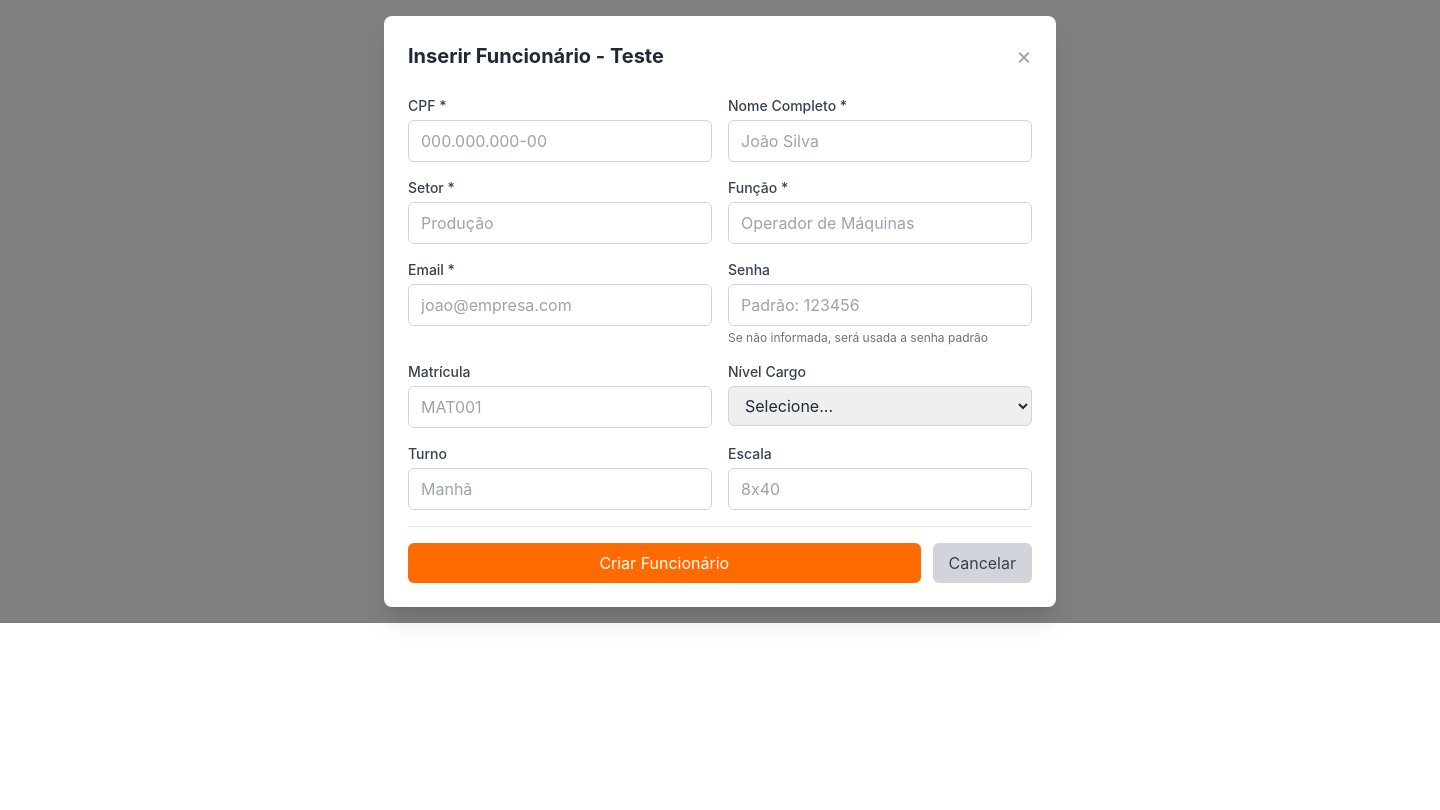
Test case: Inserção Individual de Funcionários › ModalInserirFuncionario - Interface › deve formatar CPF automaticamente com máscara
Type "12345678901" into the field with placeholder "000.000.000-00" at (560, 141), box x1=408 y1=120 x2=712 y2=162
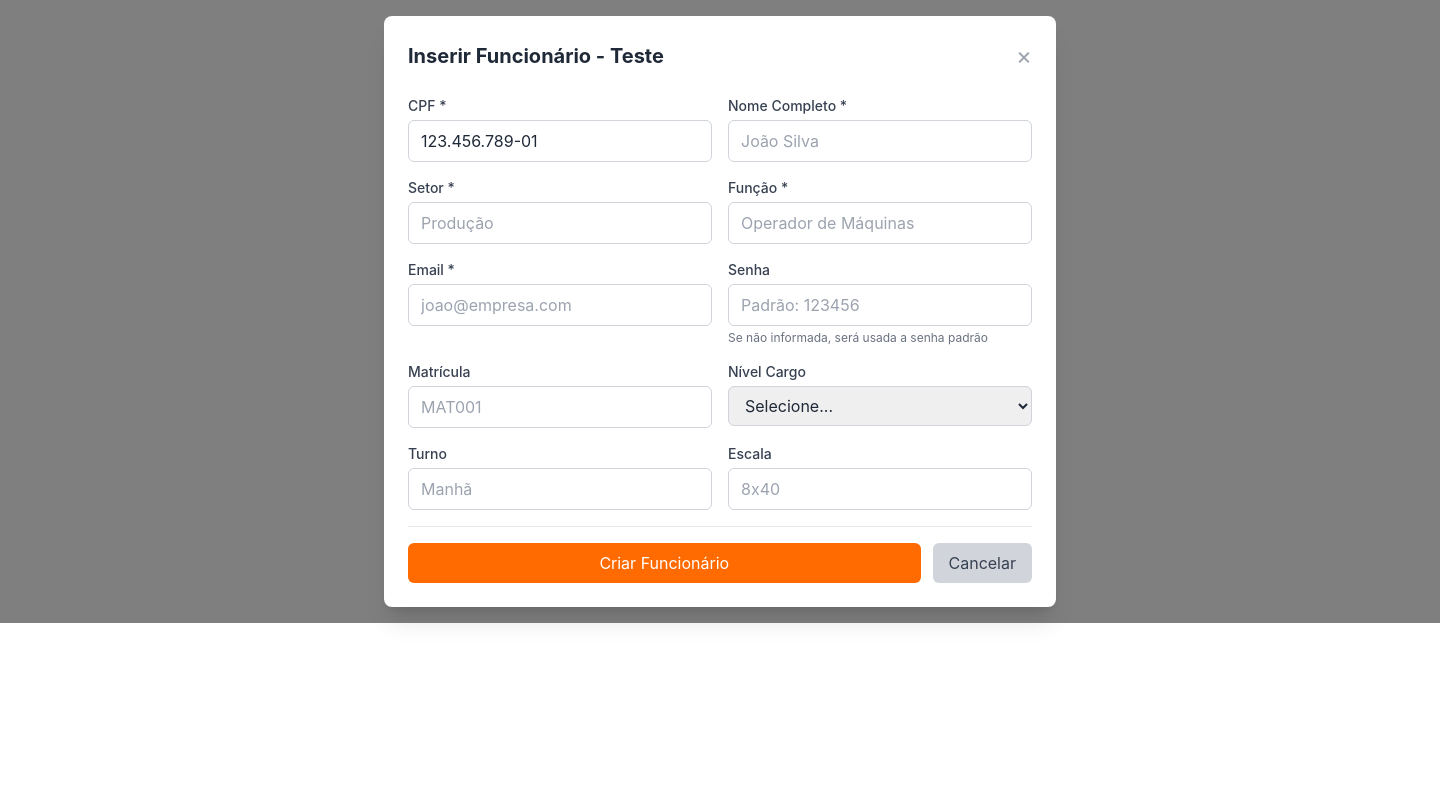
Result: the field with placeholder "000.000.000-00" holds "123.456.789-01" at x1=408 y1=120 x2=712 y2=162
